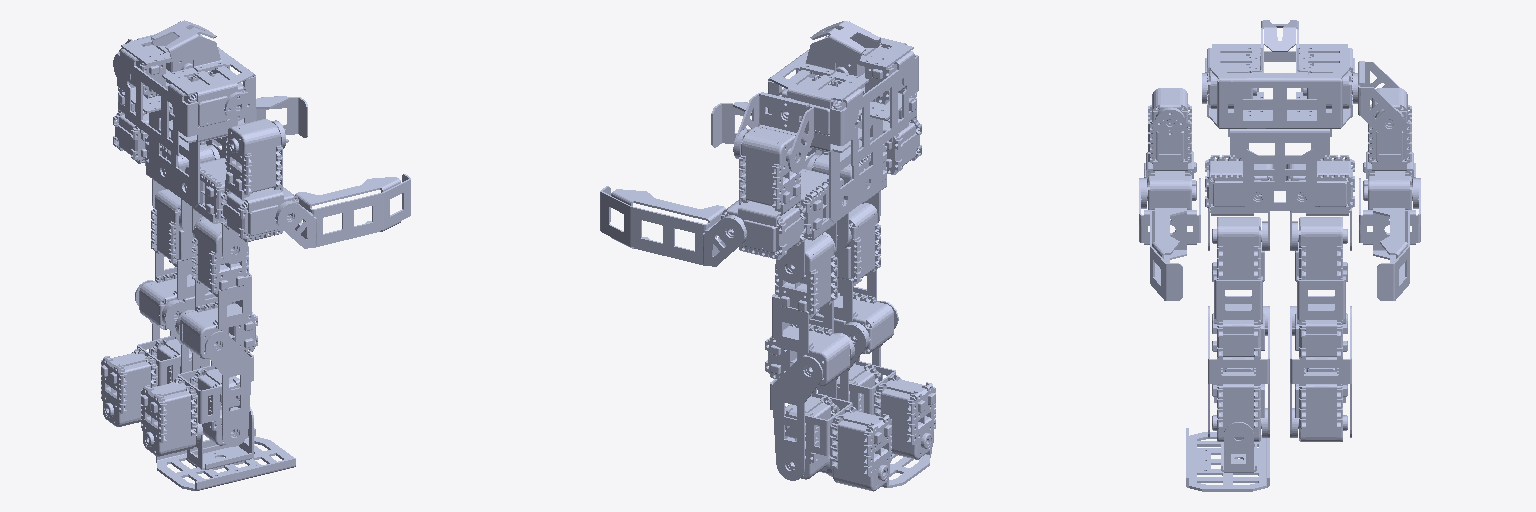
--- What the picture shows (computed from the rendered views, not written in the file) ---
Views: 3 orthographic renders of the robot side by side, from view 1: azimuth 30°, elevation 25°; view 2: azimuth 150°, elevation 25°; view 3: azimuth 270°, elevation 25°.
Model bioloid_gp1 with 18 links and 17 joints (16 continuous, 1 fixed), rooted at base_link, posed all joints at 0.
Links seen in each view (by area): view 1: base_link, right_arm_link_2, right_leg_link_2, right_leg_link_4, right_arm_link_3, left_leg_link_2, right_leg_link_5, left_leg_link_4, right_leg_link_3, torso_link, right_leg_link_1, left_arm_link_2 (+3 smaller); view 2: base_link, left_leg_link_2, left_arm_link_2, left_leg_link_4, left_arm_link_3, right_leg_link_2, right_leg_link_4, left_leg_link_3, torso_link, left_arm_link_1, left_leg_link_1, right_arm_link_2 (+4 smaller); view 3: base_link, right_leg_link_2, left_leg_link_2, torso_link, right_arm_link_2, left_arm_link_2, right_leg_link_5, right_arm_link_3, left_arm_link_3, left_leg_link_4, right_leg_link_4, right_leg_link_1 (+4 smaller).
Boxes of the visible links, x1,y1,x2,y2 form: base_link: [117, 20, 255, 155]; right_arm_link_2: [221, 119, 298, 241]; right_leg_link_2: [176, 217, 257, 358]; right_leg_link_4: [141, 367, 239, 456]; right_arm_link_3: [277, 174, 410, 248]; left_leg_link_2: [139, 189, 215, 329]; right_leg_link_5: [156, 407, 295, 490]; left_leg_link_4: [101, 337, 191, 426]; right_leg_link_3: [175, 310, 253, 446]; torso_link: [149, 108, 227, 207]; right_leg_link_1: [185, 158, 247, 263]; left_arm_link_2: [113, 87, 169, 163]; base_link: [768, 21, 918, 166]; left_leg_link_2: [765, 232, 853, 385]; left_arm_link_2: [721, 127, 805, 259]; left_leg_link_4: [775, 394, 891, 491]; left_arm_link_3: [600, 186, 744, 266]; right_leg_link_2: [811, 203, 893, 353]; right_leg_link_4: [837, 362, 935, 459]; left_leg_link_3: [770, 333, 854, 480]; torso_link: [801, 115, 882, 222]; left_arm_link_1: [733, 92, 813, 172]; left_leg_link_1: [776, 169, 843, 283]; right_arm_link_2: [860, 92, 921, 174]; base_link: [1202, 20, 1357, 128]; right_leg_link_2: [1212, 217, 1267, 359]; left_leg_link_2: [1292, 217, 1347, 359]; torso_link: [1228, 110, 1331, 210]; right_arm_link_2: [1141, 88, 1196, 209]; left_arm_link_2: [1363, 88, 1418, 209]; right_leg_link_5: [1186, 422, 1269, 491]; right_arm_link_3: [1139, 178, 1200, 300]; left_arm_link_3: [1359, 178, 1420, 300]; left_leg_link_4: [1292, 357, 1347, 441]; right_leg_link_4: [1212, 357, 1267, 441]; right_leg_link_1: [1205, 155, 1273, 250].
Bounding box of the posed robot: 0.1955 × 0.204 × 0.3451 m (x, y, z).
16 mesh visuals loaded from 18 distinct referenced files (16 binary STL); not drawn: 2 (reference not matched to a file when rendering).

The robot description file, URDF, robot "bioloid_gp1":
<?xml version="1.0" encoding="utf-8"?>
<!-- This URDF was automatically created by SolidWorks to URDF Exporter! Originally created by Stephen Brawner ([email redacted]) 
     Commit Version: 1.5.1-0-g916b5db  Build Version: 1.5.7152.31018
     For more information, please see http://wiki.ros.org/sw_urdf_exporter -->
<robot
  name="bioloid_gp1">
  <link
    name="base_link">
    <inertial>
      <origin
        xyz="-0.00355910116893569 -8.90355110819141E-10 0.00276509793203532"
        rpy="0 0 0" />
      <mass
        value="0.112944371237152" />
      <inertia
        ixx="5.09410057554706E-05"
        ixy="-2.31619284739531E-13"
        ixz="-2.01663682950217E-07"
        iyy="3.58755324524443E-05"
        iyz="2.93496587138638E-09"
        izz="6.19533298942277E-05" />
    </inertial>
    <visual>
      <origin
        xyz="0 0 0"
        rpy="0 0 0" />
      <geometry>
        <mesh
          filename="package://bioloid_gp1/meshes/base_link.STL" />
      </geometry>
      <material
        name="">
        <color
          rgba="0.792156862745098 0.819607843137255 0.933333333333333 1" />
      </material>
    </visual>
    <collision>
      <origin
        xyz="0 0 0"
        rpy="0 0 0" />
      <geometry>
        <mesh
          filename="package://bioloid_gp1/meshes/base_link.STL" />
      </geometry>
    </collision>
  </link>
  <link
    name="right_arm_link_1">
    <inertial>
      <origin
        xyz="-6.07043906253324E-08 -0.0092320672392501 0.00517864249850522"
        rpy="0 0 0" />
      <mass
        value="0.00402029367652139" />
      <inertia
        ixx="8.53462226825597E-07"
        ixy="1.70481192762851E-12"
        ixz="-1.05162131712832E-12"
        iyy="1.77130321667596E-06"
        iyz="2.51193243950453E-07"
        izz="1.69099459342747E-06" />
    </inertial>
    <visual>
      <origin
        xyz="0 0 0"
        rpy="0 0 0" />
      <geometry>
        <mesh
          filename="package://bioloid_gp1/meshes/right_arm_link_1.STL" />
      </geometry>
      <material
        name="">
        <color
          rgba="0.792156862745098 0.819607843137255 0.933333333333333 1" />
      </material>
    </visual>
    <collision>
      <origin
        xyz="0 0 0"
        rpy="0 0 0" />
      <geometry>
        <mesh
          filename="package://bioloid_gp1/meshes/right_arm_link_1.STL" />
      </geometry>
    </collision>
  </link>
  <joint
    name="joint_1"
    type="continuous">
    <origin
      xyz="0.00875 -0.05649 0.00275"
      rpy="3.1416 0 3.1416" />
    <parent
      link="base_link" />
    <child
      link="right_arm_link_1" />
    <axis
      xyz="0 1 0" />
    <safety_controller
      k_velocity="0" />
  </joint>
  <link
    name="right_arm_link_2">
    <inertial>
      <origin
        xyz="-0.000528170386428509 -0.0352518252774793 0.00311828556966412"
        rpy="0 0 0" />
      <mass
        value="0.0866430294972451" />
      <inertia
        ixx="2.18652500161555E-05"
        ixy="-8.94831167760344E-09"
        ixz="-1.89458955070907E-07"
        iyy="1.84666066901423E-05"
        iyz="2.01342587194598E-07"
        izz="1.66635512730656E-05" />
    </inertial>
    <visual>
      <origin
        xyz="0 0 0"
        rpy="0 0 0" />
      <geometry>
        <mesh
          filename="package://bioloid_gp1/meshes/right_arm_link_2.STL" />
      </geometry>
      <material
        name="">
        <color
          rgba="0.792156862745098 0.819607843137255 0.933333333333333 1" />
      </material>
    </visual>
    <collision>
      <origin
        xyz="0 0 0"
        rpy="0 0 0" />
      <geometry>
        <mesh
          filename="package://bioloid_gp1/meshes/right_arm_link_2.STL" />
      </geometry>
    </collision>
  </link>
  <joint
    name="joint_3"
    type="continuous">
    <origin
      xyz="0 -0.02301 0.018"
      rpy="-1.5708 0 1.5708" />
    <parent
      link="right_arm_link_1" />
    <child
      link="right_arm_link_2" />
    <axis
      xyz="0 0 1" />
    <safety_controller
      k_velocity="0" />
  </joint>
  <link
    name="right_arm_link_3">
    <inertial>
      <origin
        xyz="0.00415752095634414 0.0477168328995841 -0.01632646307713"
        rpy="0 0 0" />
      <mass
        value="0.0124405169193281" />
      <inertia
        ixx="1.01511820933173E-05"
        ixy="-7.57219531539473E-09"
        ixz="-1.05248182395921E-12"
        iyy="3.65282468945607E-06"
        iyz="2.51193224626463E-07"
        izz="9.92898397139804E-06" />
    </inertial>
    <visual>
      <origin
        xyz="0 0 0"
        rpy="0 0 0" />
      <geometry>
        <mesh
          filename="package://bioloid_gp1/meshes/right_arm_link_3.STL" />
      </geometry>
      <material
        name="">
        <color
          rgba="0.792156862745098 0.819607843137255 0.933333333333333 1" />
      </material>
    </visual>
    <collision>
      <origin
        xyz="0 0 0"
        rpy="0 0 0" />
      <geometry>
        <mesh
          filename="package://bioloid_gp1/meshes/right_arm_link_3.STL" />
      </geometry>
    </collision>
  </link>
  <joint
    name="joint_5"
    type="continuous">
    <origin
      xyz="0 -0.0574 0.0182"
      rpy="1.5708 0 3.1416" />
    <parent
      link="right_arm_link_2" />
    <child
      link="right_arm_link_3" />
    <axis
      xyz="1 0 0" />
    <safety_controller
      k_velocity="0" />
  </joint>
  <link
    name="left_arm_link_1">
    <inertial>
      <origin
        xyz="-6.07043890848979E-08 -0.00923206723925154 0.00517864249850555"
        rpy="0 0 0" />
      <mass
        value="0.00402029367652146" />
      <inertia
        ixx="8.53462226825606E-07"
        ixy="1.70481192659365E-12"
        ixz="-1.05162131482222E-12"
        iyy="1.77130321667598E-06"
        iyz="2.51193243950454E-07"
        izz="1.69099459342749E-06" />
    </inertial>
    <visual>
      <origin
        xyz="0 0 0"
        rpy="0 0 0" />
      <geometry>
        <mesh
          filename="package://bioloid_gp1/meshes/left_arm_link_1.STL" />
      </geometry>
      <material
        name="">
        <color
          rgba="0.792156862745098 0.819607843137255 0.933333333333333 1" />
      </material>
    </visual>
    <collision>
      <origin
        xyz="0 0 0"
        rpy="0 0 0" />
      <geometry>
        <mesh
          filename="package://bioloid_gp1/meshes/left_arm_link_1.STL" />
      </geometry>
    </collision>
  </link>
  <joint
    name="joint_2"
    type="continuous">
    <origin
      xyz="0.00875 0.05649 0.00275"
      rpy="3.1416 0 0" />
    <parent
      link="base_link" />
    <child
      link="left_arm_link_1" />
    <axis
      xyz="0 1 0" />
    <safety_controller
      k_velocity="0" />
  </joint>
  <link
    name="left_arm_link_2">
    <inertial>
      <origin
        xyz="0.000496348530981308 -0.0352836471329275 0.00311828556966444"
        rpy="0 0 0" />
      <mass
        value="0.0866430294972451" />
      <inertia
        ixx="2.18652500161555E-05"
        ixy="-8.94831167760773E-09"
        ixz="1.92394275517002E-07"
        iyy="1.84666066901423E-05"
        iyz="1.80510643393311E-07"
        izz="1.66635512730656E-05" />
    </inertial>
    <visual>
      <origin
        xyz="0 0 0"
        rpy="0 0 0" />
      <geometry>
        <mesh
          filename="package://bioloid_gp1/meshes/left_arm_link_2.STL" />
      </geometry>
      <material
        name="">
        <color
          rgba="0.792156862745098 0.819607843137255 0.933333333333333 1" />
      </material>
    </visual>
    <collision>
      <origin
        xyz="0 0 0"
        rpy="0 0 0" />
      <geometry>
        <mesh
          filename="package://bioloid_gp1/meshes/left_arm_link_2.STL" />
      </geometry>
    </collision>
  </link>
  <joint
    name="joint_4"
    type="continuous">
    <origin
      xyz="0 -0.0230095805758358 0.0179999999999895"
      rpy="-1.5707963267949 0 -1.5707963267949" />
    <parent
      link="left_arm_link_1" />
    <child
      link="left_arm_link_2" />
    <axis
      xyz="0 0 1" />
    <safety_controller
      k_velocity="0" />
  </joint>
  <link
    name="left_arm_link_3">
    <inertial>
      <origin
        xyz="-0.00415756019096616 0.0477168328995841 -0.0163264631919699"
        rpy="0 0 0" />
      <mass
        value="0.0124405169193281" />
      <inertia
        ixx="1.01511820933173E-05"
        ixy="7.57560493925653E-09"
        ixz="-1.05248182431746E-12"
        iyy="3.65282468945607E-06"
        iyz="2.51193263274454E-07"
        izz="9.92898397139806E-06" />
    </inertial>
    <visual>
      <origin
        xyz="0 0 0"
        rpy="0 0 0" />
      <geometry>
        <mesh
          filename="package://bioloid_gp1/meshes/left_arm_link_3.STL" />
      </geometry>
      <material
        name="">
        <color
          rgba="0.792156862745098 0.819607843137255 0.933333333333333 1" />
      </material>
    </visual>
    <collision>
      <origin
        xyz="0 0 0"
        rpy="0 0 0" />
      <geometry>
        <mesh
          filename="package://bioloid_gp1/meshes/left_arm_link_3.STL" />
      </geometry>
    </collision>
  </link>
  <joint
    name="joint_6"
    type="continuous">
    <origin
      xyz="0 -0.0573999999999997 0.0182000000000009"
      rpy="1.5707963267949 0 3.14159265358979" />
    <parent
      link="left_arm_link_2" />
    <child
      link="left_arm_link_3" />
    <axis
      xyz="1 0 0" />
    <safety_controller
      k_velocity="0" />
  </joint>
  <link
    name="torso_link">
    <inertial>
      <origin
        xyz="2.63162407828851E-08 0.032409044434122 -0.00131922984856171"
        rpy="0 0 0" />
      <mass
        value="0.0150306588580906" />
      <inertia
        ixx="1.22995746902599E-05"
        ixy="-5.36004120419293E-12"
        ixz="4.57561584526798E-15"
        iyy="1.26743899445148E-05"
        iyz="-4.84169136516327E-07"
        izz="1.42781332295549E-05" />
    </inertial>
    <visual>
      <origin
        xyz="0 0 0"
        rpy="0 0 0" />
      <geometry>
        <mesh
          filename="package://bioloid_gp1/meshes/torso_link.STL" />
      </geometry>
      <material
        name="">
        <color
          rgba="0.792156862745098 0.819607843137255 0.933333333333333 1" />
      </material>
    </visual>
    <collision>
      <origin
        xyz="0 0 0"
        rpy="0 0 0" />
      <geometry>
        <mesh
          filename="package://bioloid_gp1/meshes/torso_link.STL" />
      </geometry>
    </collision>
  </link>
  <joint
    name="joint_19"
    type="fixed">
    <origin
      xyz="0.00825000000000042 0 -0.0737500000000006"
      rpy="1.5707963267949 0 1.5707963267949" />
    <parent
      link="base_link" />
    <child
      link="torso_link" />
    <axis
      xyz="0 0 0" />
    <safety_controller
      k_velocity="0" />
  </joint>
  <link
    name="right_leg_link_1">
    <inertial>
      <origin
        xyz="-0.0130433690693261 -0.00232565548787897 0.000953577437985437"
        rpy="0 0 0" />
      <mass
        value="0.0465444227419532" />
      <inertia
        ixx="7.24109241174826E-06"
        ixy="5.52407893798063E-08"
        ixz="1.90926615293954E-07"
        iyy="1.32071311548595E-05"
        iyz="-1.46766022304875E-09"
        izz="1.18450916288587E-05" />
    </inertial>
    <visual>
      <origin
        xyz="0 0 0"
        rpy="0 0 0" />
      <geometry>
        <mesh
          filename="package://bioloid_gp1/meshes/right_leg_link_1.STL" />
      </geometry>
      <material
        name="">
        <color
          rgba="0.792156862745098 0.819607843137255 0.933333333333333 1" />
      </material>
    </visual>
    <collision>
      <origin
        xyz="0 0 0"
        rpy="0 0 0" />
      <geometry>
        <mesh
          filename="package://bioloid_gp1/meshes/right_leg_link_1.STL" />
      </geometry>
    </collision>
  </link>
  <joint
    name="joint_9"
    type="continuous">
    <origin
      xyz="-0.0160000000000004 0 0"
      rpy="0 0 0" />
    <parent
      link="torso_link" />
    <child
      link="right_leg_link_1" />
    <axis
      xyz="0 0 1" />
    <safety_controller
      k_velocity="0" />
  </joint>
  <link
    name="right_leg_link_2">
    <inertial>
      <origin
        xyz="-0.0129843075496472 -0.0436689123978273 -0.000466568121460509"
        rpy="0 0 0" />
      <mass
        value="0.087395965925078" />
      <inertia
        ixx="2.07330711638692E-05"
        ixy="1.89458955070831E-07"
        ixz="-1.92394275516865E-07"
        iyy="1.89034952338267E-05"
        iyz="-7.78205227092172E-08"
        izz="1.89379045179429E-05" />
    </inertial>
    <visual>
      <origin
        xyz="0 0 0"
        rpy="0 0 0" />
      <geometry>
        <mesh
          filename="package://bioloid_gp1/meshes/right_leg_link_2.STL" />
      </geometry>
      <material
        name="">
        <color
          rgba="0.792156862745098 0.819607843137255 0.933333333333333 1" />
      </material>
    </visual>
    <collision>
      <origin
        xyz="0 0 0"
        rpy="0 0 0" />
      <geometry>
        <mesh
          filename="package://bioloid_gp1/meshes/right_leg_link_2.STL" />
      </geometry>
    </collision>
  </link>
  <joint
    name="joint_11"
    type="continuous">
    <origin
      xyz="0 -0.0417999999999986 0"
      rpy="0 0 0" />
    <parent
      link="right_leg_link_1" />
    <child
      link="right_leg_link_2" />
    <axis
      xyz="1 0 0" />
    <safety_controller
      k_velocity="0" />
  </joint>
  <link
    name="right_leg_link_3">
    <inertial>
      <origin
        xyz="0.0139999999999992 0.033556383206639 0.0151934897642462"
        rpy="0 0 0" />
      <mass
        value="0.00701486534628872" />
      <inertia
        ixx="5.15587753735926E-06"
        ixy="-8.62765575531373E-20"
        ixz="-3.58175997697015E-20"
        iyy="3.83307916350282E-06"
        iyz="-4.23987865116599E-07"
        izz="7.34905050588702E-06" />
    </inertial>
    <visual>
      <origin
        xyz="0 0 0"
        rpy="0 0 0" />
      <geometry>
        <mesh
          filename="package://bioloid_gp1/meshes/right_leg_link_3.STL" />
      </geometry>
      <material
        name="">
        <color
          rgba="0.792156862745098 0.819607843137255 0.933333333333333 1" />
      </material>
    </visual>
    <collision>
      <origin
        xyz="0 0 0"
        rpy="0 0 0" />
      <geometry>
        <mesh
          filename="package://bioloid_gp1/meshes/right_leg_link_3.STL" />
      </geometry>
    </collision>
  </link>
  <joint
    name="joint_13"
    type="continuous">
    <origin
      xyz="0 -0.0744000000000003 -0.0145000000000005"
      rpy="0 0 3.14159265358979" />
    <parent
      link="right_leg_link_2" />
    <child
      link="right_leg_link_3" />
    <axis
      xyz="1 0 0" />
    <safety_controller
      k_velocity="0" />
  </joint>
  <link
    name="right_leg_link_4">
    <inertial>
      <origin
        xyz="-0.013367992566117 0.021128064175969 0.0130554015027963"
        rpy="0 0 0" />
      <mass
        value="0.0856772163480855" />
      <inertia
        ixx="2.17028956622458E-05"
        ixy="7.45122817651758E-20"
        ixz="-2.01342587194575E-07"
        iyy="2.20441592245027E-05"
        iyz="1.82085534033286E-07"
        izz="1.30559757952079E-05" />
    </inertial>
    <visual>
      <origin
        xyz="0 0 0"
        rpy="0 0 0" />
      <geometry>
        <mesh
          filename="package://bioloid_gp1/meshes/right_leg_link_4.STL" />
      </geometry>
      <material
        name="">
        <color
          rgba="0.792156862745098 0.819607843137255 0.933333333333333 1" />
      </material>
    </visual>
    <collision>
      <origin
        xyz="0 0 0"
        rpy="0 0 0" />
      <geometry>
        <mesh
          filename="package://bioloid_gp1/meshes/right_leg_link_4.STL" />
      </geometry>
    </collision>
  </link>
  <joint
    name="joint_15"
    type="continuous">
    <origin
      xyz="0 0.075 0.0145000000000002"
      rpy="-1.5707963267949 0 3.14159265358979" />
    <parent
      link="right_leg_link_3" />
    <child
      link="right_leg_link_4" />
    <axis
      xyz="1 0 0" />
    <safety_controller
      k_velocity="0" />
  </joint>
  <link
    name="right_leg_link_5">
    <inertial>
      <origin
        xyz="0.000199999992457914 -0.0271016298640743 0.00578156165290527"
        rpy="0 0 0" />
      <mass
        value="0.0145032303847988" />
      <inertia
        ixx="5.46558889534122E-06"
        ixy="6.68157958106957E-17"
        ixz="6.34590720150547E-16"
        iyy="1.36797822725631E-05"
        iyz="6.23591718166461E-15"
        izz="9.53948774258591E-06" />
    </inertial>
    <visual>
      <origin
        xyz="0 0 0"
        rpy="0 0 0" />
      <geometry>
        <mesh
          filename="package://bioloid_gp1/meshes/right_leg_link_5.STL" />
      </geometry>
      <material
        name="">
        <color
          rgba="0.792156862745098 0.819607843137255 0.933333333333333 1" />
      </material>
    </visual>
    <collision>
      <origin
        xyz="0 0 0"
        rpy="0 0 0" />
      <geometry>
        <mesh
          filename="package://bioloid_gp1/meshes/right_leg_link_5.STL" />
      </geometry>
    </collision>
  </link>
  <joint
    name="joint_17"
    type="continuous">
    <origin
      xyz="-0.0138 0 -9.99999999997669E-05"
      rpy="1.5707963267949 0 -1.5707963267949" />
    <parent
      link="right_leg_link_4" />
    <child
      link="right_leg_link_5" />
    <axis
      xyz="1 0 0" />
    <safety_controller
      k_velocity="0" />
  </joint>
  <link
    name="left_leg_link_1">
    <inertial>
      <origin
        xyz="-0.013043369069326 -0.00238489227282189 -0.00095357743798509"
        rpy="0 0 0" />
      <mass
        value="0.0465444227419532" />
      <inertia
        ixx="7.24109241174826E-06"
        ixy="3.44088455785087E-08"
        ixz="-1.90926615293941E-07"
        iyy="1.32071311548595E-05"
        iyz="-1.46766022304846E-09"
        izz="1.18450916288587E-05" />
    </inertial>
    <visual>
      <origin
        xyz="0 0 0"
        rpy="0 0 0" />
      <geometry>
        <mesh
          filename="package://bioloid_gp1/meshes/left_leg_link_1.STL" />
      </geometry>
      <material
        name="">
        <color
          rgba="0.792156862745098 0.819607843137255 0.933333333333333 1" />
      </material>
    </visual>
    <collision>
      <origin
        xyz="0 0 0"
        rpy="0 0 0" />
      <geometry>
        <mesh
          filename="package://bioloid_gp1/meshes/left_leg_link_1.STL" />
      </geometry>
    </collision>
  </link>
  <joint
    name="joint_10"
    type="continuous">
    <origin
      xyz="0.016 0 0"
      rpy="3.14159265358979 0 -3.14159265358979" />
    <parent
      link="torso_link" />
    <child
      link="left_leg_link_1" />
    <axis
      xyz="0 0 1" />
    <safety_controller
      k_velocity="0" />
  </joint>
  <link
    name="left_leg_link_2">
    <inertial>
      <origin
        xyz="0.0129843075496483 -0.0437004601006382 -0.000498115824349318"
        rpy="0 0 0" />
      <mass
        value="0.087395965925078" />
      <inertia
        ixx="2.07330711638695E-05"
        ixy="-1.92394275517343E-07"
        ixz="1.89458955067263E-07"
        iyy="1.89034952338267E-05"
        iyz="-7.78205227092368E-08"
        izz="1.89379045179425E-05" />
    </inertial>
    <visual>
      <origin
        xyz="0 0 0"
        rpy="0 0 0" />
      <geometry>
        <mesh
          filename="package://bioloid_gp1/meshes/left_leg_link_2.STL" />
      </geometry>
      <material
        name="">
        <color
          rgba="0.792156862745098 0.819607843137255 0.933333333333333 1" />
      </material>
    </visual>
    <collision>
      <origin
        xyz="0 0 0"
        rpy="0 0 0" />
      <geometry>
        <mesh
          filename="package://bioloid_gp1/meshes/left_leg_link_2.STL" />
      </geometry>
    </collision>
  </link>
  <joint
    name="joint_12"
    type="continuous">
    <origin
      xyz="0 -0.0418000000000007 0"
      rpy="3.14159265358979 0 -3.14159265358979" />
    <parent
      link="left_leg_link_1" />
    <child
      link="left_leg_link_2" />
    <axis
      xyz="1 0 0" />
    <safety_controller
      k_velocity="0" />
  </joint>
  <link
    name="left_leg_link_3">
    <inertial>
      <origin
        xyz="-0.0140000000000281 0.0335563832066419 0.0151934897642271"
        rpy="0 0 0" />
      <mass
        value="0.00701486534628872" />
      <inertia
        ixx="5.1558775373593E-06"
        ixy="3.03138649127152E-19"
        ixz="-2.1118104131574E-18"
        iyy="3.83307916350283E-06"
        iyz="-4.23987865116592E-07"
        izz="7.34905050588706E-06" />
    </inertial>
    <visual>
      <origin
        xyz="0 0 0"
        rpy="0 0 0" />
      <geometry>
        <mesh
          filename="package://bioloid_gp1/meshes/left_leg_link_3.STL" />
      </geometry>
      <material
        name="">
        <color
          rgba="0.792156862745098 0.819607843137255 0.933333333333333 1" />
      </material>
    </visual>
    <collision>
      <origin
        xyz="0 0 0"
        rpy="0 0 0" />
      <geometry>
        <mesh
          filename="package://bioloid_gp1/meshes/left_leg_link_3.STL" />
      </geometry>
    </collision>
  </link>
  <joint
    name="joint_14"
    type="continuous">
    <origin
      xyz="0 -0.0743999999999758 -0.0145000000001237"
      rpy="0 0 -3.14159265358979" />
    <parent
      link="left_leg_link_2" />
    <child
      link="left_leg_link_3" />
    <axis
      xyz="1 0 0" />
    <safety_controller
      k_velocity="0" />
  </joint>
  <link
    name="left_leg_link_4">
    <inertial>
      <origin
        xyz="0.0134001731396249 0.0210958836024549 0.0130554015027963"
        rpy="0 0 0" />
      <mass
        value="0.0856772163480854" />
      <inertia
        ixx="2.17028956622458E-05"
        ixy="-2.49349063667142E-19"
        ixz="1.80510643393132E-07"
        iyy="2.20441592245027E-05"
        iyz="2.02917477834786E-07"
        izz="1.30559757952079E-05" />
    </inertial>
    <visual>
      <origin
        xyz="0 0 0"
        rpy="0 0 0" />
      <geometry>
        <mesh
          filename="package://bioloid_gp1/meshes/left_leg_link_4.STL" />
      </geometry>
      <material
        name="">
        <color
          rgba="0.792156862745098 0.819607843137255 0.933333333333333 1" />
      </material>
    </visual>
    <collision>
      <origin
        xyz="0 0 0"
        rpy="0 0 0" />
      <geometry>
        <mesh
          filename="package://bioloid_gp1/meshes/left_leg_link_4.STL" />
      </geometry>
    </collision>
  </link>
  <joint
    name="joint_16"
    type="continuous">
    <origin
      xyz="0 0.0750000000000029 0.0144999999999943"
      rpy="-1.5707963267949 0 3.14159265358979" />
    <parent
      link="left_leg_link_3" />
    <child
      link="left_leg_link_4" />
    <axis
      xyz="1 0 0" />
    <safety_controller
      k_velocity="0" />
  </joint>
  <link
    name="left_leg_link_5">
    <inertial>
      <origin
        xyz="-0.00019999999247404 0.027101629864075 -0.00578156174805482"
        rpy="0 0 0" />
      <mass
        value="0.0145032303847987" />
      <inertia
        ixx="5.46558889534117E-06"
        ixy="6.6836357239274E-17"
        ixz="-6.3553817952006E-16"
        iyy="1.36797822725629E-05"
        iyz="-6.23589339895925E-15"
        izz="9.53948774258582E-06" />
    </inertial>
    <visual>
      <origin
        xyz="0 0 0"
        rpy="0 0 0" />
      <geometry>
        <mesh
          filename="package://bioloid_gp1/meshes/left_leg_link_5.STL" />
      </geometry>
      <material
        name="">
        <color
          rgba="0.792156862745098 0.819607843137255 0.933333333333333 1" />
      </material>
    </visual>
    <collision>
      <origin
        xyz="0 0 0"
        rpy="0 0 0" />
      <geometry>
        <mesh
          filename="package://bioloid_gp1/meshes/left_leg_link_5.STL" />
      </geometry>
    </collision>
  </link>
  <joint
    name="joint_18"
    type="continuous">
    <origin
      xyz="0.0138000000000007 0 -9.9999999999989E-05"
      rpy="-1.5707963267949 0 1.5707963267949" />
    <parent
      link="left_leg_link_4" />
    <child
      link="left_leg_link_5" />
    <axis
      xyz="1 0 0" />
    <safety_controller
      k_velocity="0" />
  </joint>
</robot>
